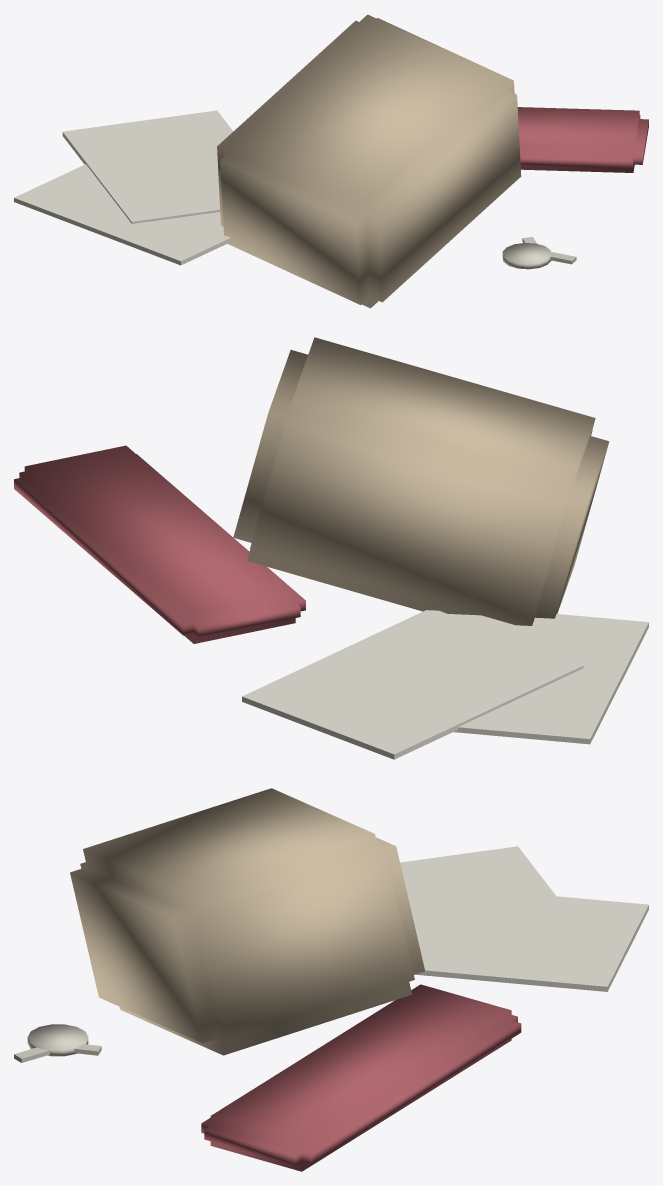
File: crime_evidence_bag.glb
The picture shows the model from 3 angles, top to bottom: view 1: azimuth 30°, elevation 25°; view 2: azimuth 150°, elevation 25°; view 3: azimuth 270°, elevation 25°; orthographic projection. The views are drawn at different scales.
Parts seen in each view (by area): view 1: BagBody, SpilledDoc2, SpilledDoc1, DroppedScarf, KeyRing; view 2: BagBody, DroppedScarf, SpilledDoc2, SpilledDoc1; view 3: BagBody, DroppedScarf, SpilledDoc2, SpilledDoc1, KeyRing.
Part boxes in pixels (box(x1,y1,x2,y2)): BagBody: box(217, 14, 521, 308); SpilledDoc2: box(62, 110, 232, 223); SpilledDoc1: box(14, 164, 231, 265); DroppedScarf: box(517, 107, 648, 172); KeyRing: box(502, 243, 551, 269); BagBody: box(233, 337, 609, 625); DroppedScarf: box(14, 445, 305, 643); SpilledDoc2: box(242, 610, 583, 759); SpilledDoc1: box(448, 614, 648, 744); BagBody: box(70, 788, 424, 1055); DroppedScarf: box(201, 984, 521, 1171); SpilledDoc2: box(405, 882, 648, 991); SpilledDoc1: box(400, 846, 555, 896); KeyRing: box(27, 1024, 88, 1056).
Size of the model in its own units: 0.8112 by 0.2752 by 0.6702.
